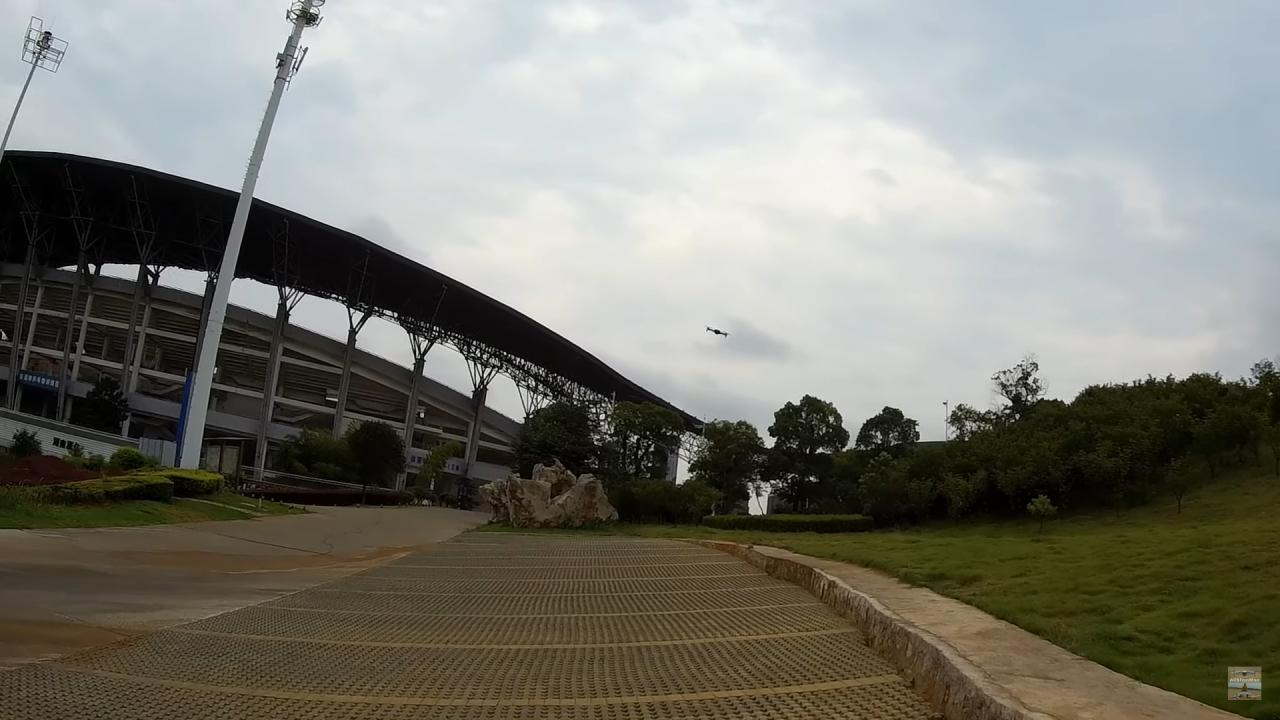Drone: (697, 318, 735, 344)
